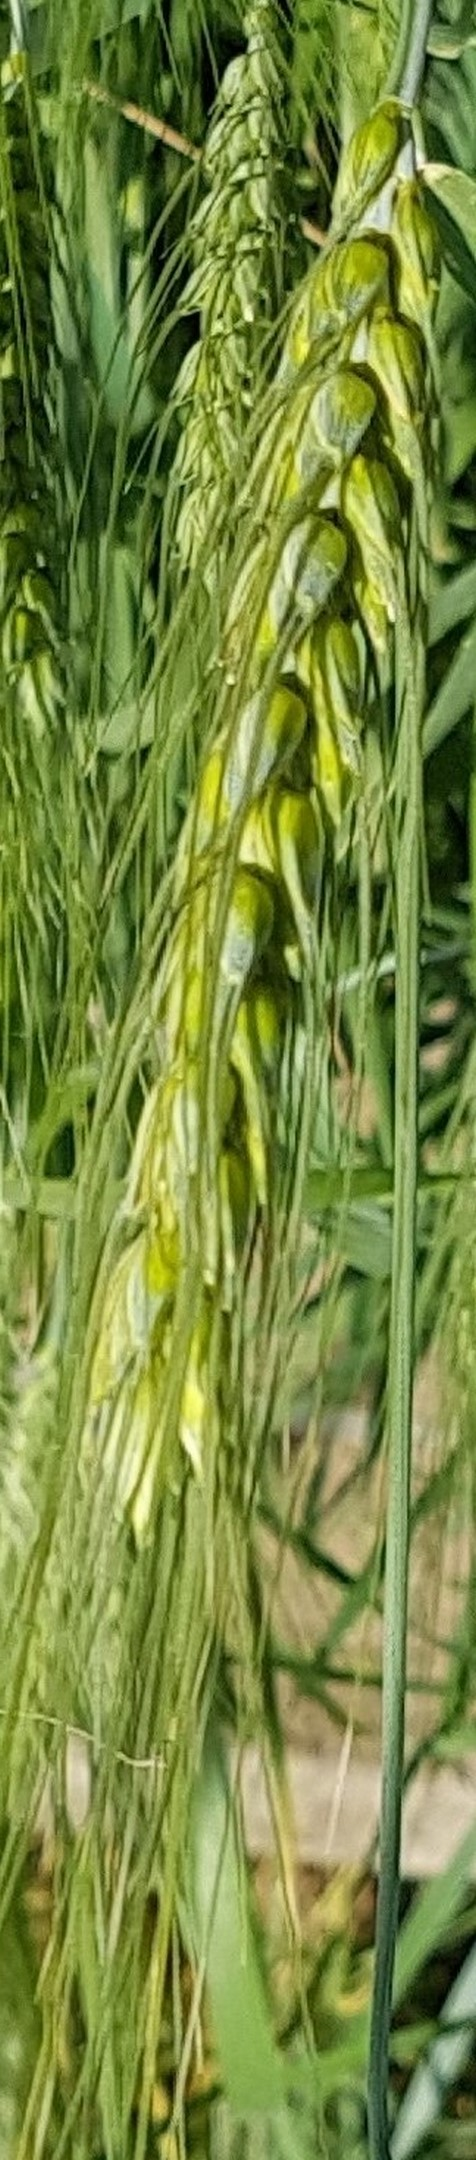Healthy Wheat: (83, 176, 476, 1552)
